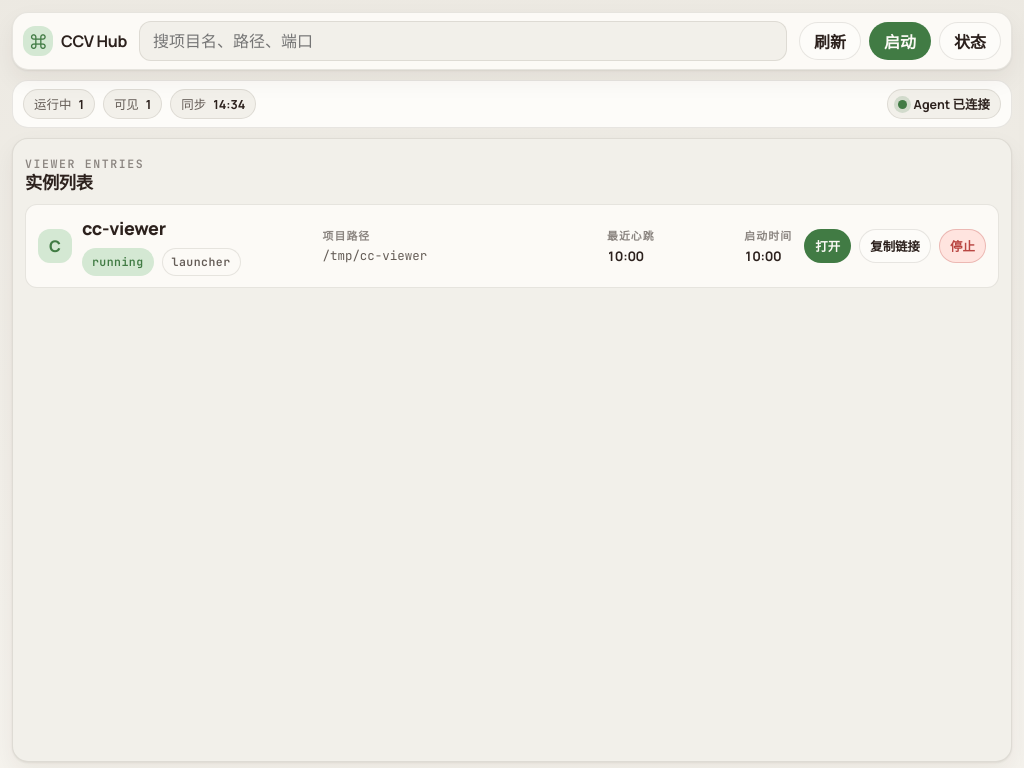
it: OverviewPage › shows filter miss state and clears the project filter
The width and height of the screenshot is (1024, 768).
Expected: the heading "cc-viewer" is shown, [82,216,166,240]
In the field with placeholder "搜项目名、路径、端口": (463, 41) [139,21,787,61], type "missing"
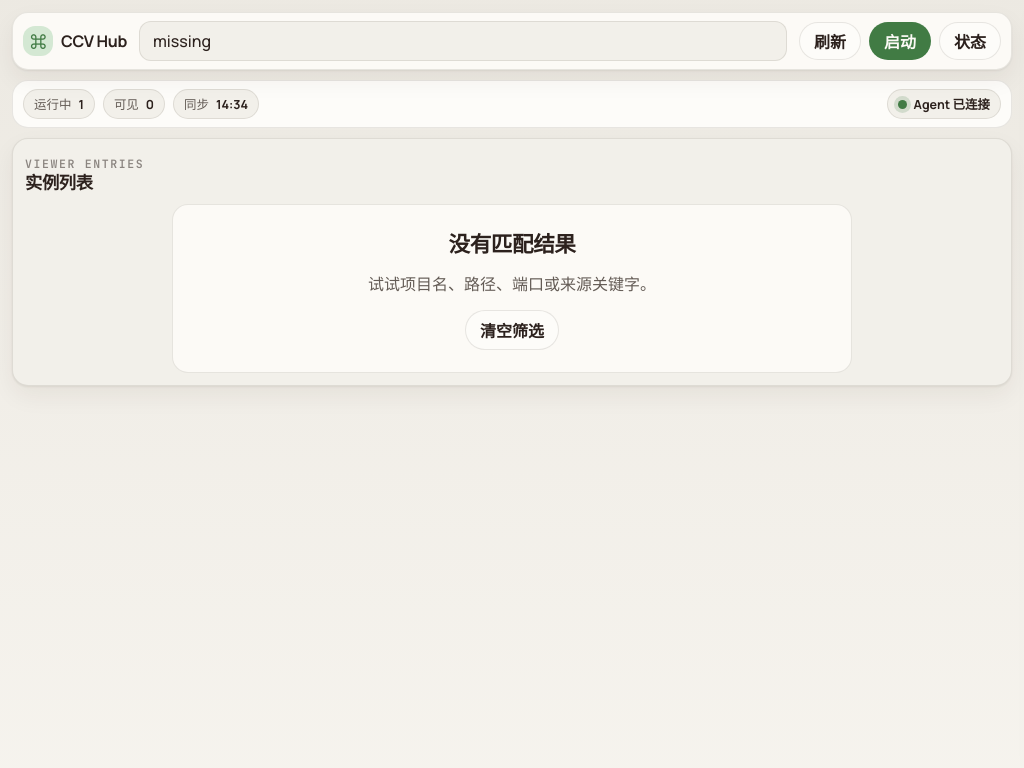
Now the heading "没有匹配结果" is shown, box [448,227,576,258]
Click the button "清空筛选": (512, 330) [465,310,559,350]
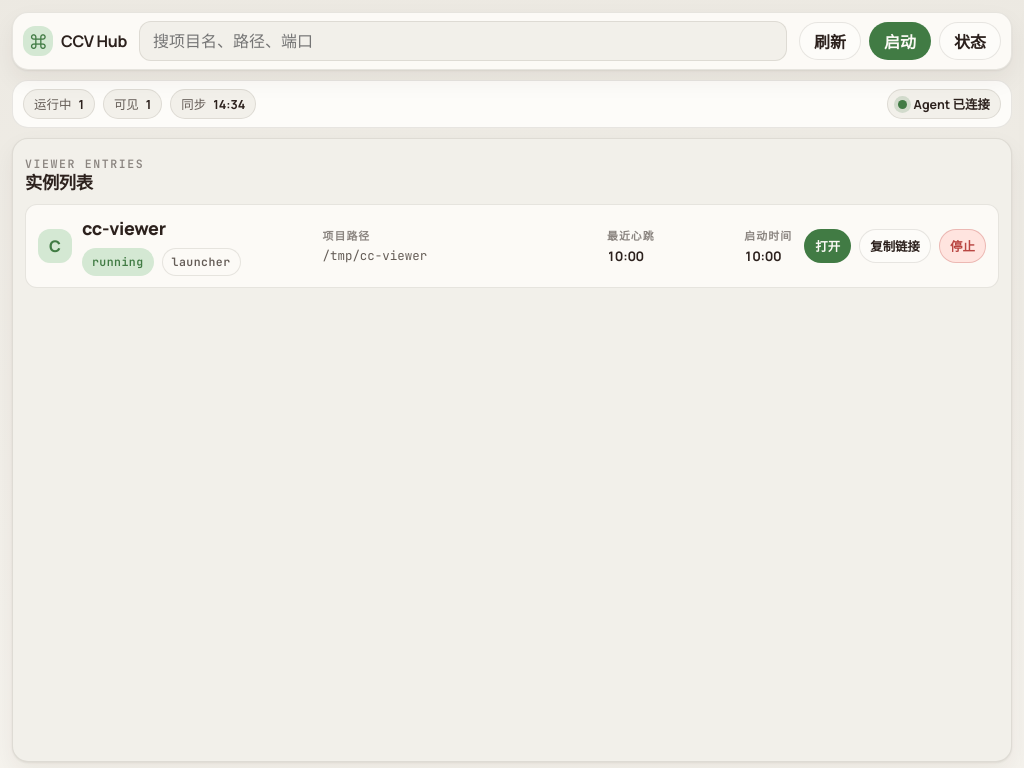
Now the heading "cc-viewer" is shown, box [82,216,166,240]
Now the field with placeholder "搜项目名、路径、端口" is empty, box [139,21,787,61]
